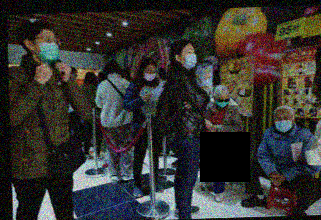with_mask: (32, 33, 59, 65), (274, 113, 294, 133), (181, 46, 197, 69), (142, 68, 157, 82), (215, 95, 231, 108)
